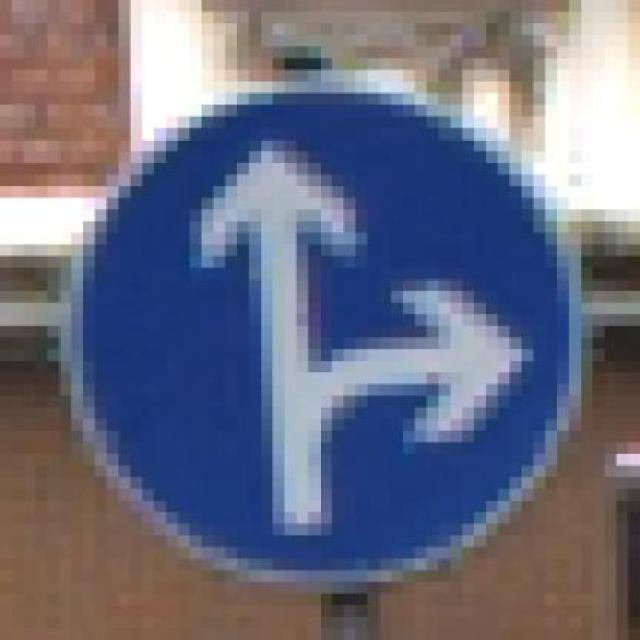Go Straight or Turn Right: (58, 70, 604, 605)
